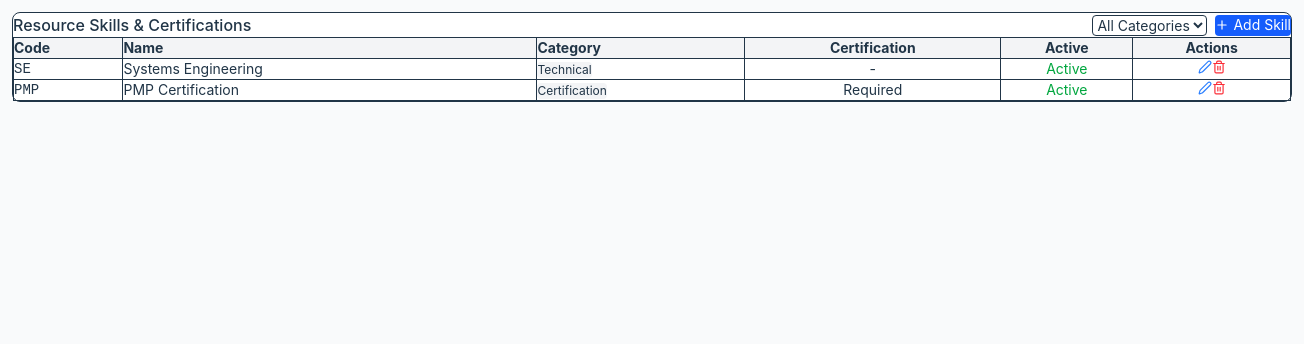
SkillsPanel › opens edit form with pre-filled data
The image size is (1304, 344).
Click the button titled "Edit" in the row of "SE".
click(1205, 67)  # box [1198,60,1212,74]
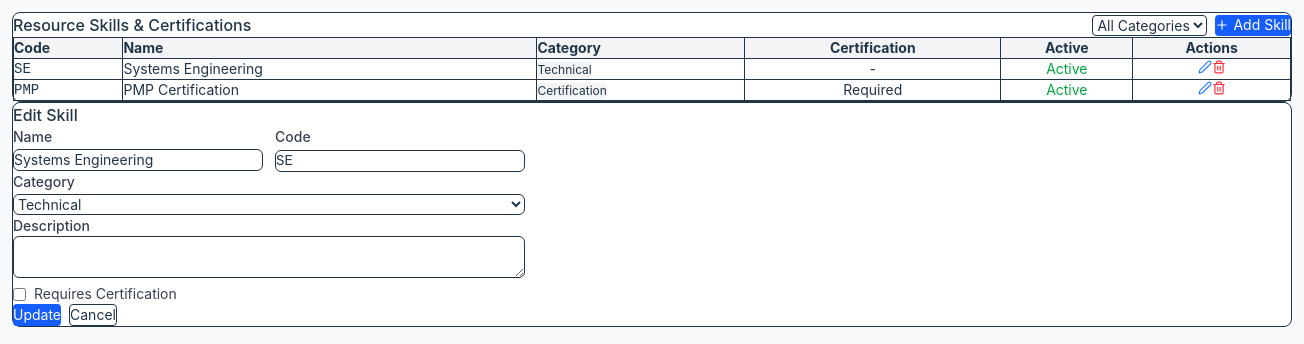
Result: the heading "Edit Skill" is shown at [13,105,78,125]
Result: the field labelled "Name" holds "Systems Engineering" at [13,149,263,171]
Result: the field labelled "Code" holds "SE" at [275,150,525,172]
